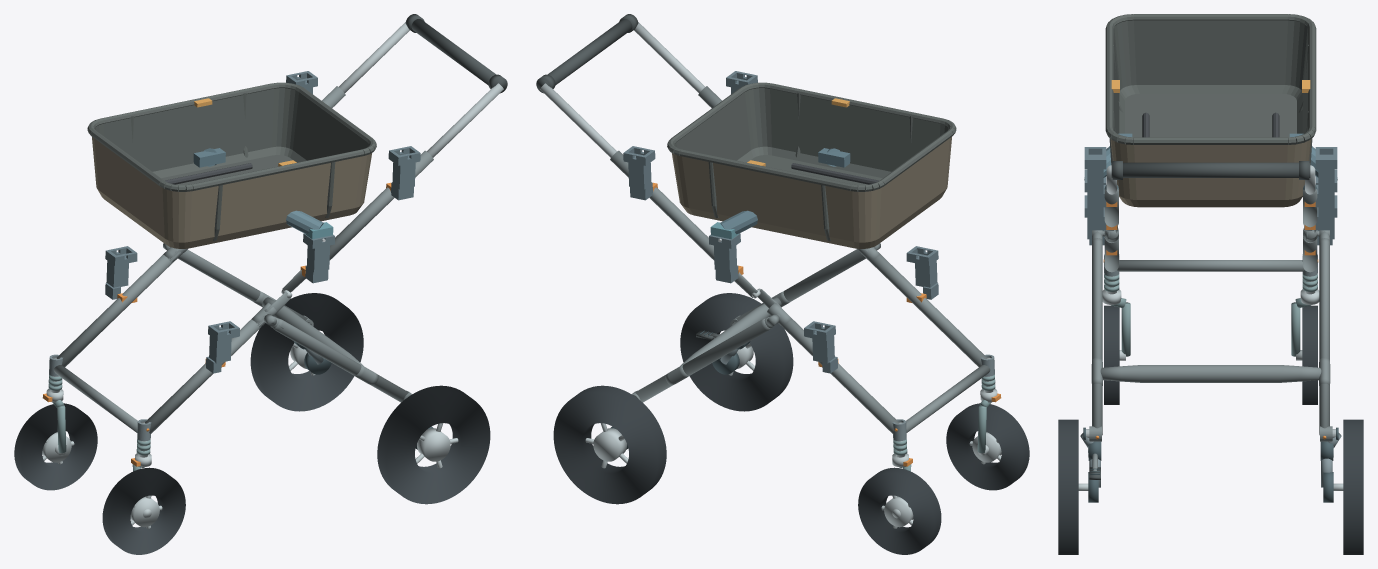
File: S13_w550_state1_wheel_M.glb
3 renders of one model, left to right at view 1: azimuth 30°, elevation 25°; view 2: azimuth 150°, elevation 25°; view 3: azimuth 270°, elevation 25°, orthographic. The views are drawn at different scales.
Parts seen in each view (by area): view 1: S13_Cabin, RL_tire.002, RR_tire.002, FL_tire.002, FR_tire.002, main_lower_1.003, V46_rear_leg_-1.003, main_lower_-1.003, round_handle.002, main_upper_-1.003, S13_Cabin_Mount_M, Universal_Cabin_Receiver_H_-1 (+10 smaller); view 2: S13_Cabin, RR_tire.002, RL_tire.002, FR_tire.002, FL_tire.002, main_lower_-1.003, V46_rear_leg_1.003, main_lower_1.003, round_handle.002, main_upper_1.003, S13_Cabin_Mount_M, Universal_Cabin_Receiver_H_1 (+10 smaller); view 3: S13_Cabin, V46_rearbar.003, round_handle.002, RL_tire.002, RR_tire.002, front_fixed_round_tube.002, V46_rear_leg_1.003, V46_rear_leg_-1.003, FL_tire.002, FR_tire.002, Universal_Cabin_Receiver_H_1, Universal_Cabin_Receiver_H_-1 (+8 smaller).
Boxes of the visible parts, bbox=[...] form: S13_Cabin: bbox=[87, 82, 376, 248]; RL_tire.002: bbox=[377, 385, 490, 504]; RR_tire.002: bbox=[250, 293, 363, 411]; FL_tire.002: bbox=[102, 467, 185, 554]; FR_tire.002: bbox=[14, 403, 97, 490]; main_lower_1.003: bbox=[56, 251, 180, 366]; V46_rear_leg_-1.003: bbox=[273, 318, 408, 402]; main_lower_-1.003: bbox=[145, 319, 264, 434]; round_handle.002: bbox=[411, 19, 506, 91]; main_upper_-1.003: bbox=[329, 150, 433, 260]; S13_Cabin_Mount_M: bbox=[193, 148, 333, 241]; Universal_Cabin_Receiver_H_-1: bbox=[388, 146, 420, 200]; S13_Cabin: bbox=[667, 82, 956, 248]; RR_tire.002: bbox=[553, 385, 666, 504]; RL_tire.002: bbox=[680, 293, 793, 411]; FR_tire.002: bbox=[858, 467, 941, 554]; FL_tire.002: bbox=[946, 403, 1029, 490]; main_lower_-1.003: bbox=[863, 251, 987, 366]; V46_rear_leg_1.003: bbox=[635, 318, 770, 402]; main_lower_1.003: bbox=[779, 319, 898, 434]; round_handle.002: bbox=[537, 19, 632, 91]; main_upper_1.003: bbox=[610, 150, 714, 260]; S13_Cabin_Mount_M: bbox=[710, 148, 850, 241]; Universal_Cabin_Receiver_H_1: bbox=[623, 146, 655, 200]; S13_Cabin: bbox=[1105, 14, 1316, 207]; V46_rearbar.003: bbox=[1100, 365, 1321, 382]; round_handle.002: bbox=[1111, 162, 1310, 177]; RL_tire.002: bbox=[1058, 419, 1078, 554]; RR_tire.002: bbox=[1343, 419, 1363, 554]; front_fixed_round_tube.002: bbox=[1117, 260, 1304, 271]; V46_rear_leg_1.003: bbox=[1319, 238, 1329, 435]; V46_rear_leg_-1.003: bbox=[1092, 238, 1102, 435]; FL_tire.002: bbox=[1104, 305, 1119, 404]; FR_tire.002: bbox=[1302, 305, 1317, 404]; Universal_Cabin_Receiver_H_1: bbox=[1315, 147, 1337, 207]; Universal_Cabin_Receiver_H_-1: bbox=[1084, 147, 1106, 207].
Size of the model in its own units: 1.16 by 1.06 by 0.6771.
